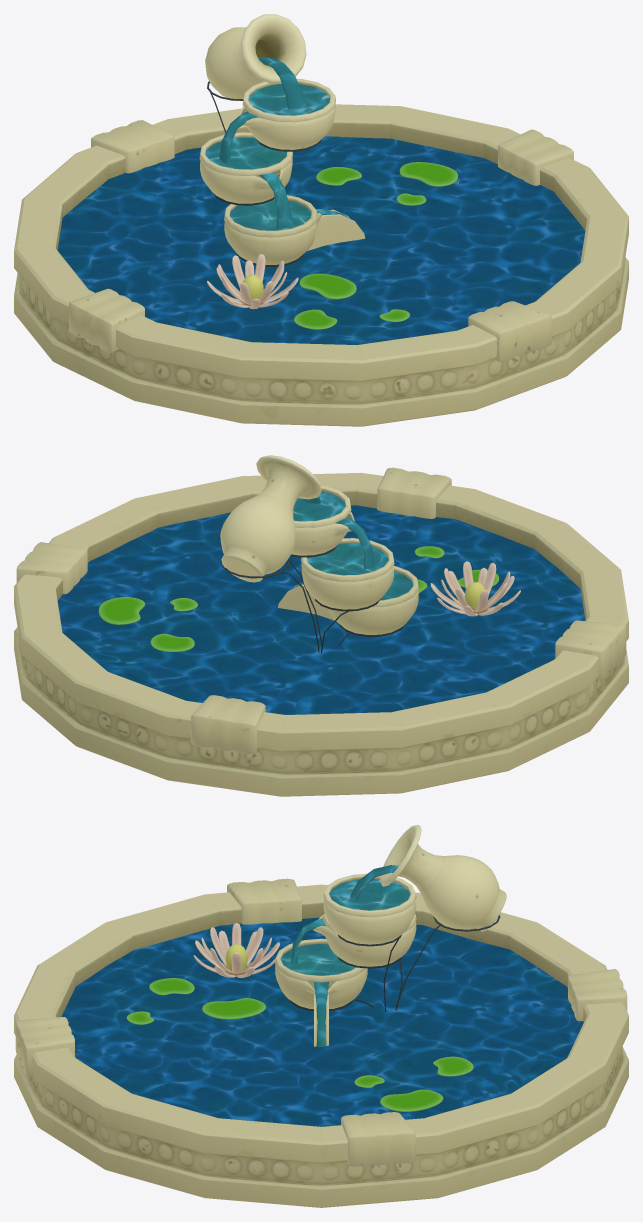
Rendered from stylized_water_fountain.glb.
3 views of the same model, one above another, from view 1: azimuth 30°, elevation 25°; view 2: azimuth 150°, elevation 25°; view 3: azimuth 270°, elevation 25° (orthographic).
Parts seen in each view (by area): view 1: Base_LP, AguaBase_LP, BaseDetalle_LP, JarronFlaco_LP, Nenufar_LP, JarronGordo_3_LP, JarronGordo_1_LP, JarronGordo_2_LP, Flor_LP, AguaJarronGordo_2_LP, AguaJarronGordo_3_LP, AguaJarronGordo_1_LP (+4 smaller); view 2: Base_LP, AguaBase_LP, BaseDetalle_LP, JarronFlaco_LP, JarronGordo_2_LP, Flor_LP, Nenufar_LP, JarronGordo_1_LP, JarronGordo_3_LP, AguaJarronGordo_2_LP, AguaJarronGordo_3_LP, FuenteBase_LP (+2 smaller); view 3: AguaBase_LP, Base_LP, BaseDetalle_LP, JarronFlaco_LP, Nenufar_LP, JarronGordo_3_LP, JarronGordo_1_LP, Flor_LP, JarronGordo_2_LP, AguaJarronGordo_3_LP, AguaJarronGordo_1_LP, CorrienteJarronGordo_1_LP.
Part boxes in pixels (x1,y1,x2,y2): Base_LP: (14,104,628,426); AguaBase_LP: (57,136,585,344); BaseDetalle_LP: (69,120,573,362); JarronFlaco_LP: (205,14,306,100); Nenufar_LP: (294,162,458,329); JarronGordo_3_LP: (239,78,335,149); JarronGordo_1_LP: (224,195,322,264); JarronGordo_2_LP: (199,132,292,203); Flor_LP: (207,254,298,309); AguaJarronGordo_2_LP: (205,137,286,169); AguaJarronGordo_3_LP: (248,84,329,115); AguaJarronGordo_1_LP: (230,199,311,230); Base_LP: (14,472,628,796); AguaBase_LP: (57,505,585,714); BaseDetalle_LP: (16,467,626,754); JarronFlaco_LP: (220,455,321,582); JarronGordo_2_LP: (301,538,394,609); Flor_LP: (430,561,520,616); Nenufar_LP: (98,546,499,651); JarronGordo_1_LP: (328,566,418,634); JarronGordo_3_LP: (291,485,354,555); AguaJarronGordo_2_LP: (307,543,388,575); AguaJarronGordo_3_LP: (293,491,345,521); FuenteBase_LP: (278,582,334,620); AguaBase_LP: (61,917,583,1126); Base_LP: (14,884,628,1207); BaseDetalle_LP: (15,878,627,1166); JarronFlaco_LP: (380,825,506,931); Nenufar_LP: (126,978,473,1111); JarronGordo_3_LP: (323,873,416,944); JarronGordo_1_LP: (274,938,367,1009); Flor_LP: (193,923,279,977); JarronGordo_2_LP: (313,914,416,966); AguaJarronGordo_3_LP: (329,879,410,910); AguaJarronGordo_1_LP: (281,944,355,975); CorrienteJarronGordo_1_LP: (314,982,328,1046).
Bounding box in the file's own units: 23.39 × 10.36 × 23.39.
2 materials, 2 textured.
